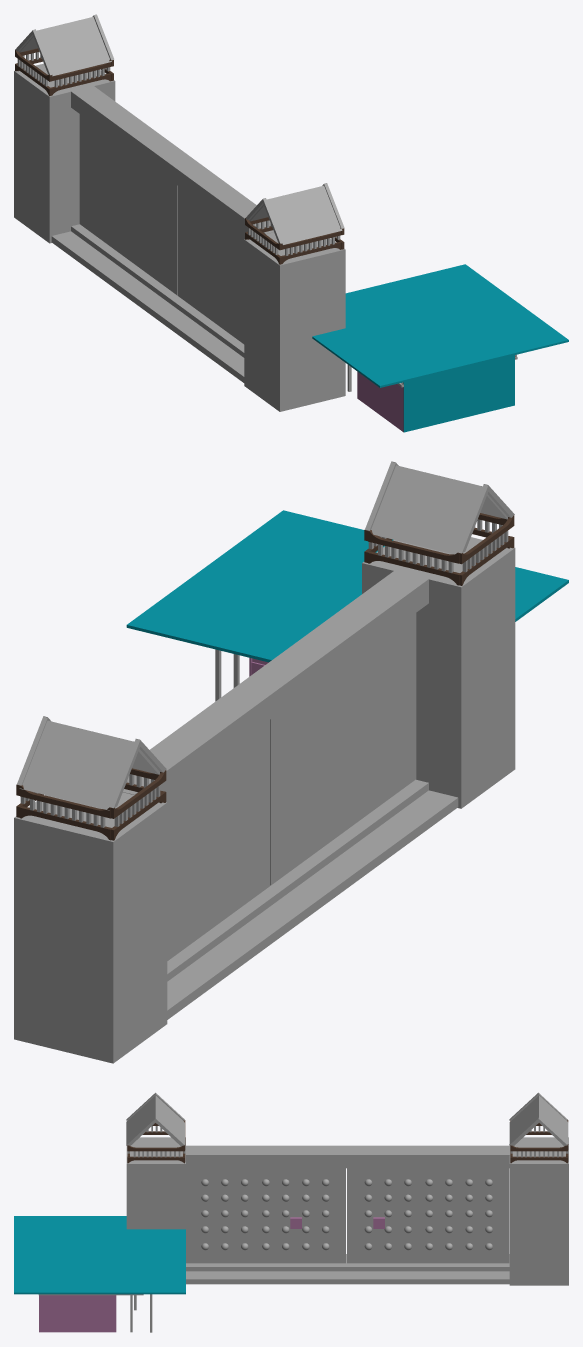
Rendered from guards.fbx.
3 views of the same model, one above another, from view 1: azimuth 30°, elevation 25°; view 2: azimuth 150°, elevation 25°; view 3: azimuth 270°, elevation 25° (orthographic). The views are drawn at different scales.
Visible parts, largest first — view 1: pCube168 (×2), polySurface811, polySurface886, pCube163, pCube164, polySurface819, pCube167, poles1, polySurface828, polySurface887, pCube166, polySurface810; view 2: pCube168 (×2), pCube163, polySurface886, polySurface811, pCube164, pCube167, poles1, polySurface888, polySurface829, pCube166; view 3: pCube168 (×2), polySurface811, pCube163, pCube164, polySurface886, pCube167, group18 (×2), polySurface820, pCube166, poles1, polySurface828, polySurface829 (+2 smaller).
Boxes of the visible parts, x1=… form: pCube168 (×2): x1=79, y1=114, x2=244, y2=344; polySurface811: x1=312, y1=264, x2=568, y2=387; polySurface886: x1=244, y1=232, x2=345, y2=411; pCube163: x1=14, y1=63, x2=115, y2=243; pCube164: x1=71, y1=85, x2=273, y2=234; polySurface819: x1=403, y1=355, x2=514, y2=432; pCube167: x1=51, y1=231, x2=244, y2=382; poles1: x1=15, y1=14, x2=344, y2=264; polySurface828: x1=267, y1=185, x2=342, y2=244; polySurface887: x1=36, y1=17, x2=111, y2=76; pCube166: x1=71, y1=224, x2=244, y2=357; polySurface810: x1=357, y1=371, x2=403, y2=431; pCube168 (×2): x1=166, y1=613, x2=416, y2=960; pCube163: x1=14, y1=792, x2=167, y2=1063; polySurface886: x1=362, y1=537, x2=515, y2=808; polySurface811: x1=126, y1=510, x2=568, y2=662; pCube164: x1=123, y1=570, x2=428, y2=795; pCube167: x1=167, y1=790, x2=458, y2=1019; poles1: x1=16, y1=461, x2=514, y2=840; polySurface888: x1=19, y1=720, x2=134, y2=810; polySurface829: x1=371, y1=465, x2=482, y2=554; pCube166: x1=167, y1=779, x2=428, y2=981; pCube168 (×2): x1=186, y1=1168, x2=509, y2=1263; polySurface811: x1=14, y1=1216, x2=185, y2=1294; pCube163: x1=509, y1=1137, x2=568, y2=1285; pCube164: x1=185, y1=1145, x2=510, y2=1168; polySurface886: x1=126, y1=1137, x2=185, y2=1229; pCube167: x1=186, y1=1254, x2=509, y2=1284; group18 (×2): x1=201, y1=1179, x2=492, y2=1250; polySurface820: x1=39, y1=1295, x2=116, y2=1332; pCube166: x1=186, y1=1258, x2=509, y2=1271; poles1: x1=126, y1=1092, x2=568, y2=1163; polySurface828: x1=126, y1=1095, x2=155, y2=1145; polySurface829: x1=155, y1=1096, x2=184, y2=1146.
Size of the model in its own units: 89.54 by 77.59 by 234.
